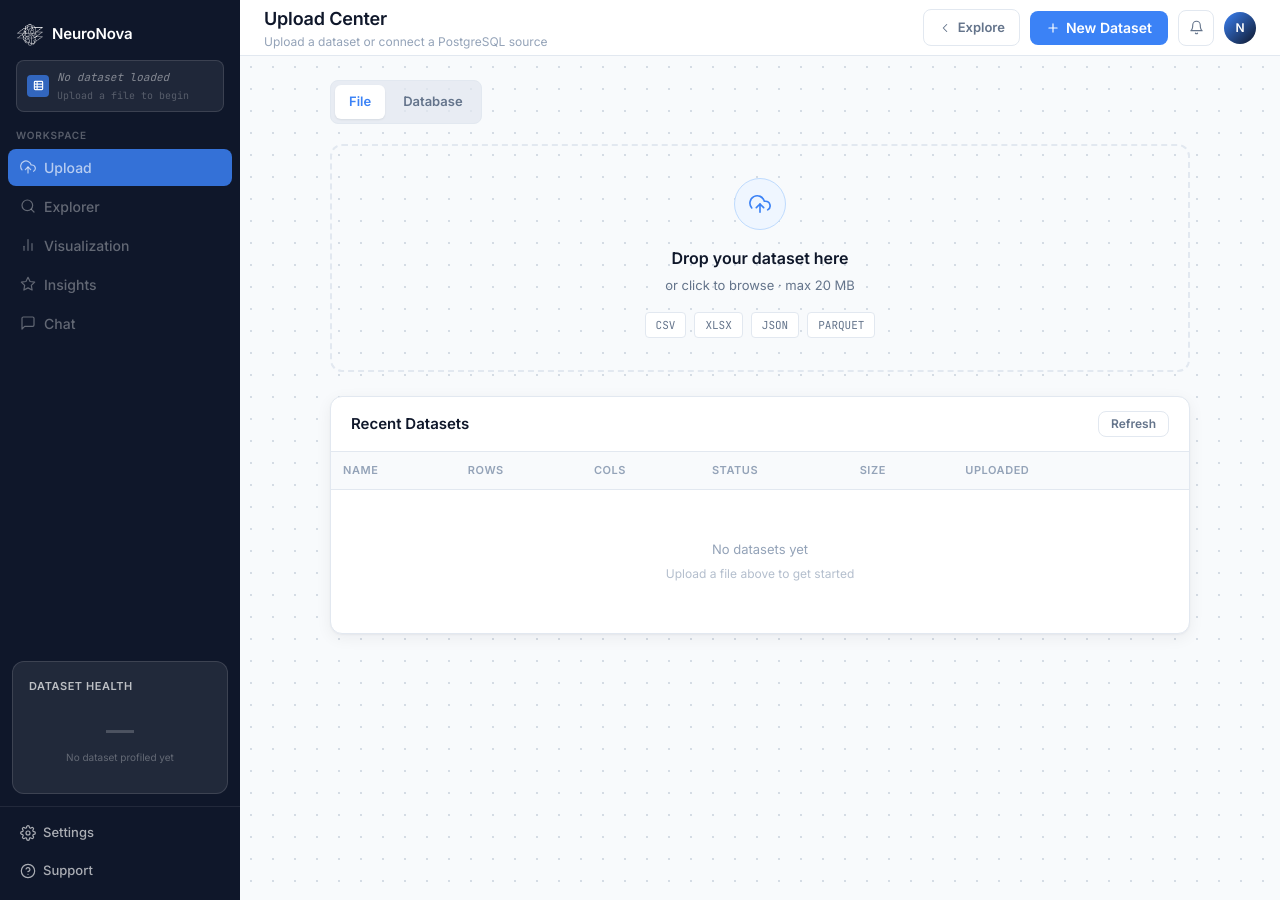
Test case: renders quoted schema and table identities without dot collisions
Click the tab "Database": (433, 102) [389,85,477,119]
(page scrolled)
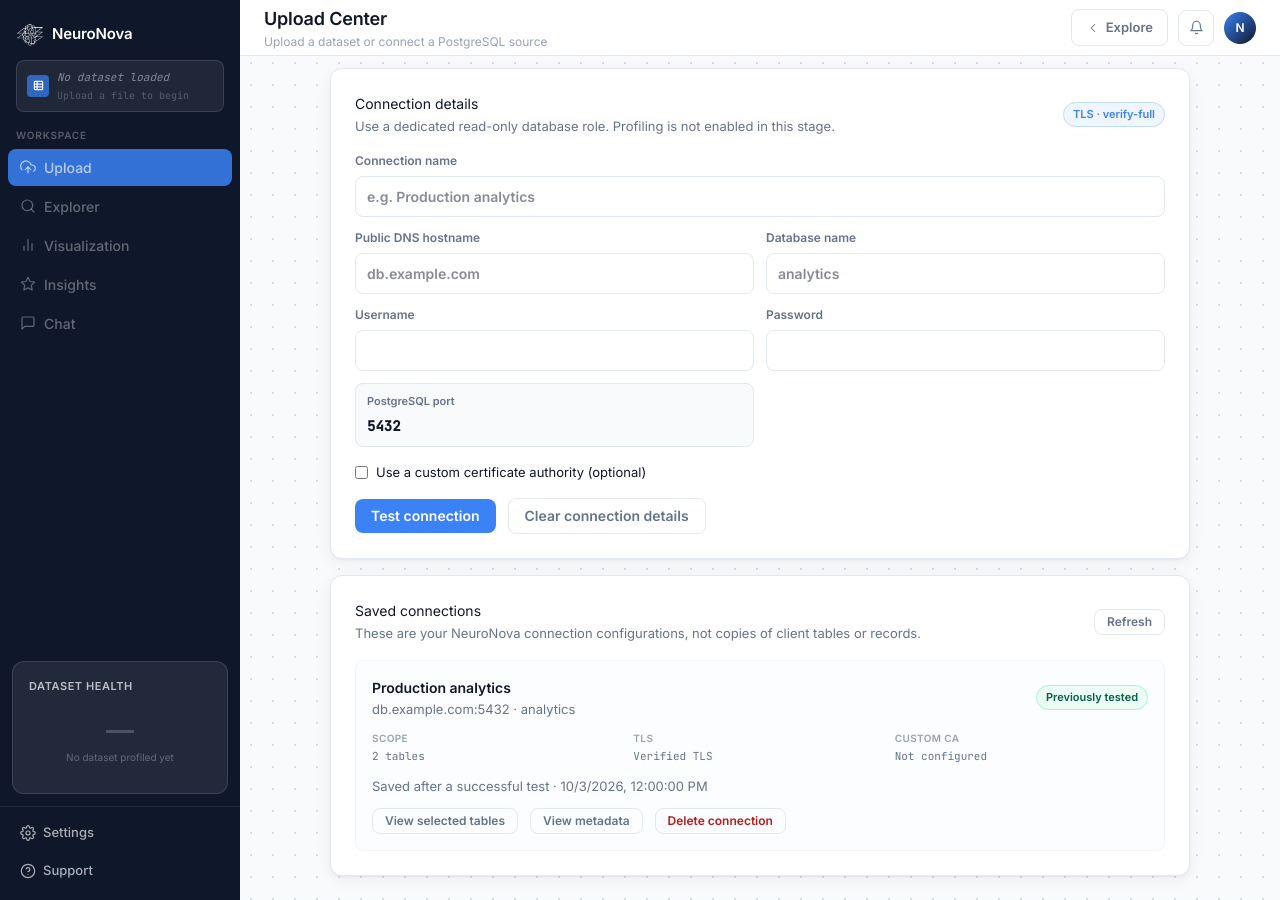
Expected: the heading "Production analytics" is shown, [372,678,511,696]
Click the button "View selected tables": (445, 821) [372,808,518,834]
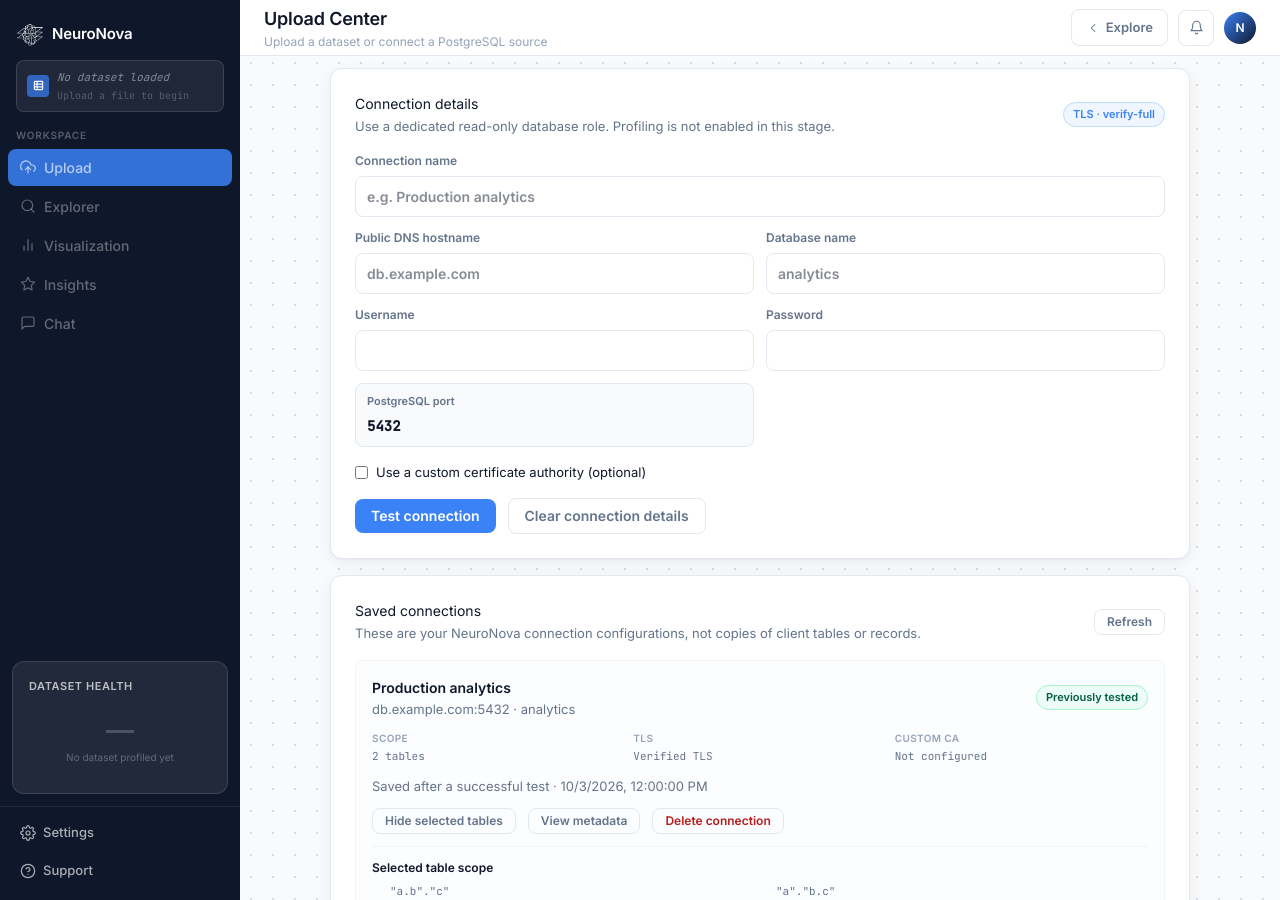
Expected: the list item "\"a.b\".\"c\"" is shown, [390,884,449,898]
Expected: the list item "\"a\".\"b.c\"" is shown, [776,884,835,898]
